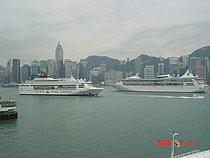Ship: (112, 66, 210, 98), (15, 68, 109, 100)
